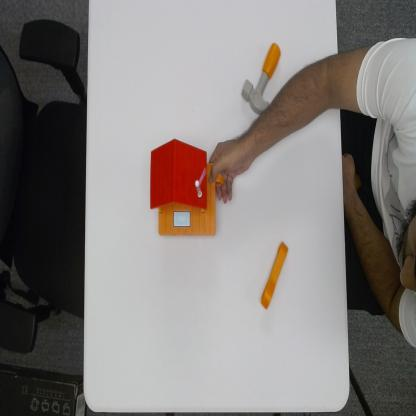Arm: (242, 58, 342, 162)
Hammer: (240, 39, 281, 115)
Hand: (208, 136, 247, 208)
House: (149, 137, 225, 238)
Screwdriver: (259, 240, 290, 312)
